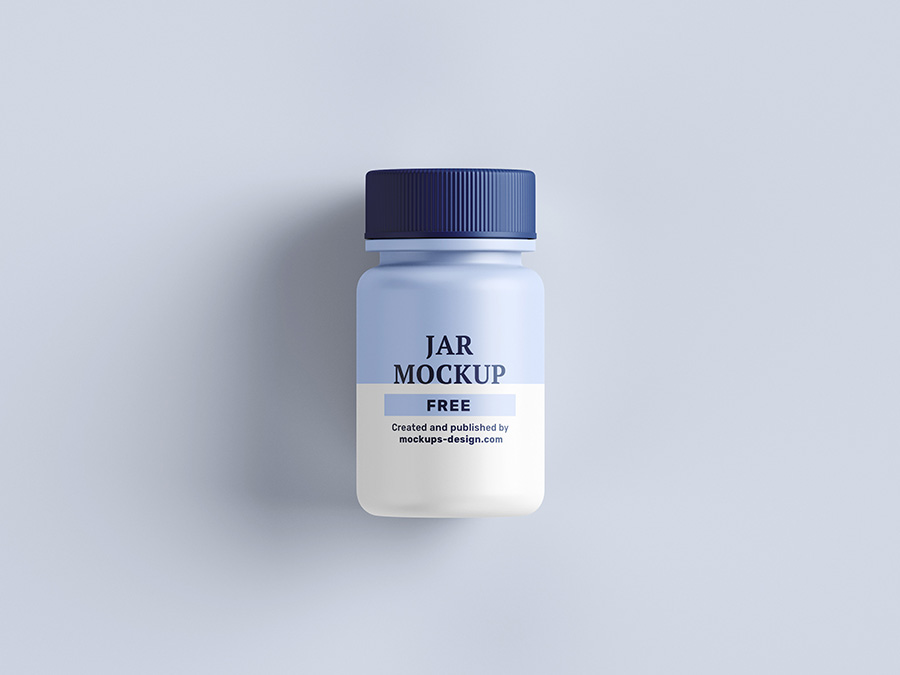Medicine: (336, 154, 566, 536)
